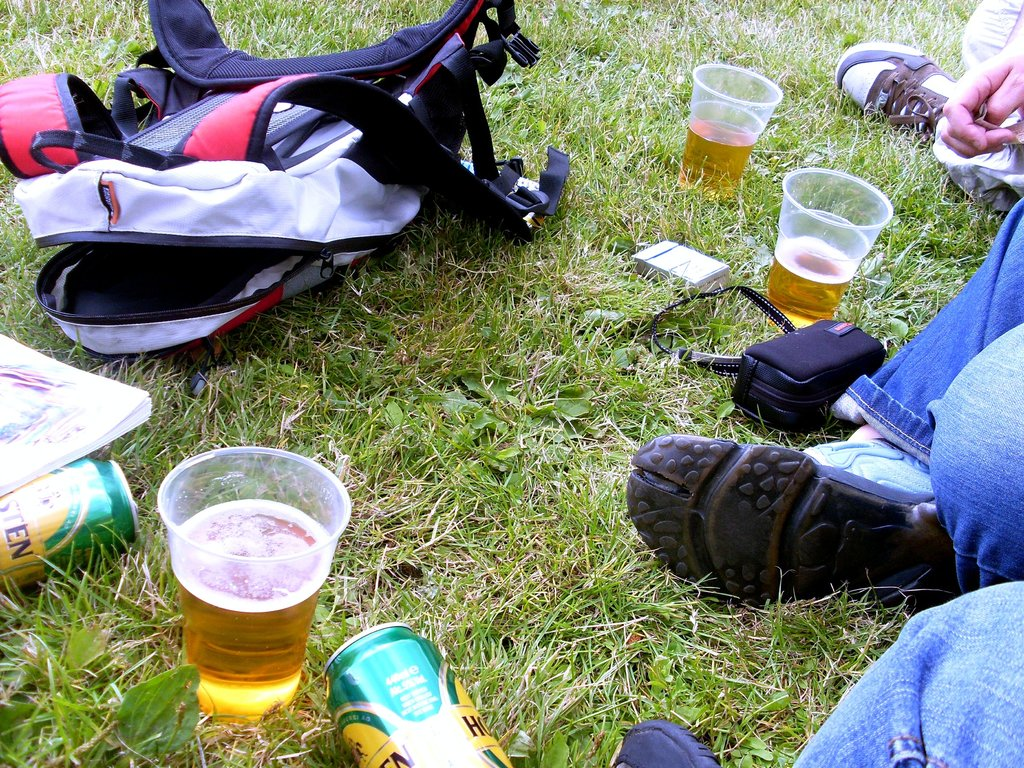Beer: (171, 499, 334, 723), (323, 623, 507, 764), (0, 459, 147, 591), (769, 232, 855, 323), (677, 123, 755, 200)
